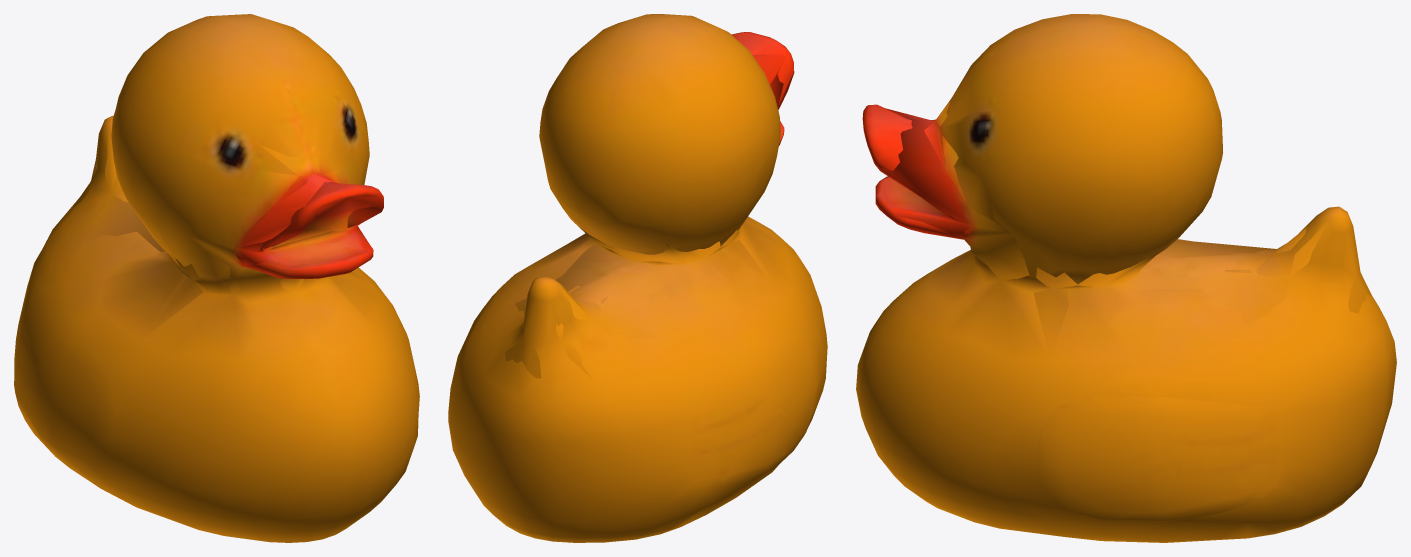
File: rubber_duck_toy.glb
3 views of the same model, side by side, from view 1: azimuth 30°, elevation 25°; view 2: azimuth 150°, elevation 25°; view 3: azimuth 270°, elevation 25° (orthographic). The views are drawn at different scales.
Visible parts, largest first — view 1: rubber_duck_toy, rubber_duck_toy_lo; view 2: rubber_duck_toy, rubber_duck_toy_lo; view 3: rubber_duck_toy, rubber_duck_toy_lo.
Boxes of the visible parts, x1,y1,x2,y2 form: rubber_duck_toy: [14, 14, 419, 542]; rubber_duck_toy_lo: [63, 15, 383, 508]; rubber_duck_toy: [448, 14, 827, 542]; rubber_duck_toy_lo: [505, 43, 788, 481]; rubber_duck_toy: [856, 14, 1396, 542]; rubber_duck_toy_lo: [881, 26, 1384, 510].
Size of the model in its own units: 0.2135 by 0.2855 by 0.3.
1 material, 1 textured.
